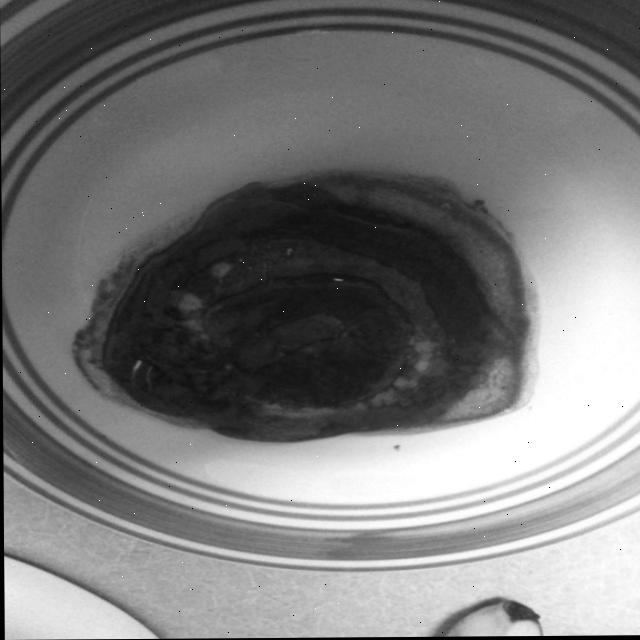蛋糕甜品: (68, 144, 550, 461)
